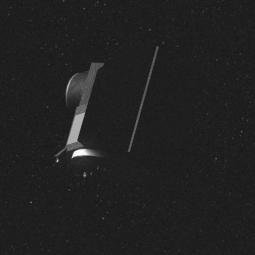cheops: (45, 46, 163, 180)
